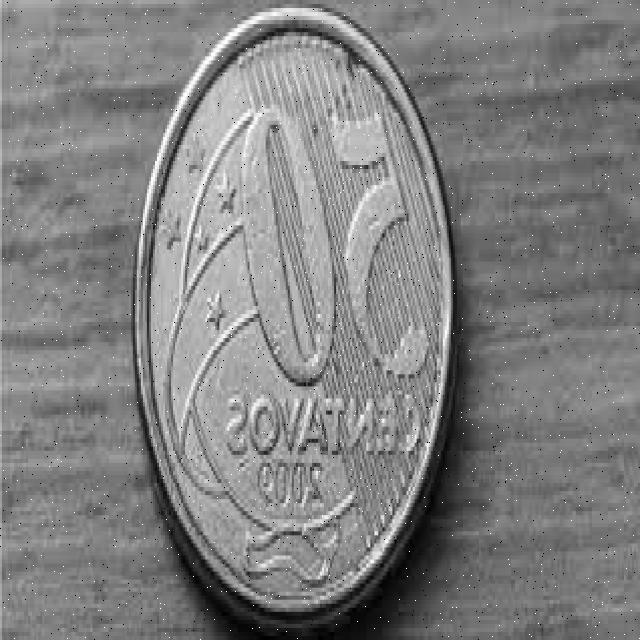50 cent: (128, 0, 456, 626)
